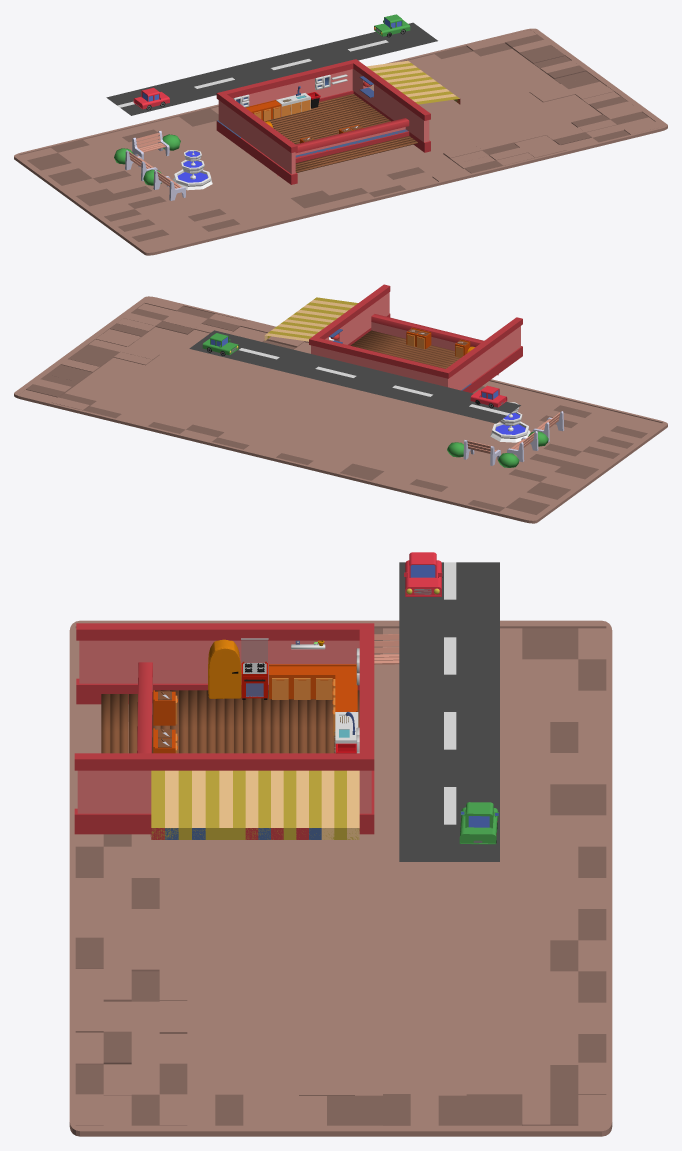
File: KitchenTutorial.fbx
3 renders of one model, top to bottom at view 1: azimuth 30°, elevation 25°; view 2: azimuth 150°, elevation 25°; view 3: azimuth 270°, elevation 25°, orthographic. The views are drawn at different scales.
Visible parts, largest first — view 1: Chao restaurante.001, Paredes, Rua, Chao, Bancos, Paredes.001, Chafariz, Pia, Carro.001, Carro, Bancada.001; view 2: Chao restaurante.001, Paredes, Rua, Chao, Paredes.001, Bancos, Chafariz, Carro, Carro.001, Arbustos.002, Bancada.004; view 3: Chao restaurante.001, Paredes, Rua, Chao, Bancada, Fogao, Carro, Porta Geladeira, Carro.001, Paredes.001.
Boxes of the visible parts, <box> form: Chao restaurante.001: <box>14,28,667,255</box>; Paredes: <box>216,59,460,184</box>; Rua: <box>106,22,437,115</box>; Chao: <box>264,93,417,172</box>; Bancos: <box>125,131,185,200</box>; Paredes.001: <box>277,118,409,176</box>; Chafariz: <box>172,150,212,190</box>; Pia: <box>276,86,310,116</box>; Carro.001: <box>374,14,410,37</box>; Carro: <box>133,87,169,110</box>; Bancada.001: <box>257,100,281,121</box>; Chao restaurante.001: <box>14,296,667,523</box>; Paredes: <box>264,284,522,392</box>; Rua: <box>189,330,520,423</box>; Chao: <box>350,330,460,368</box>; Paredes.001: <box>371,314,498,375</box>; Bancos: <box>463,411,564,465</box>; Chafariz: <box>490,402,530,442</box>; Carro: <box>470,385,507,408</box>; Carro.001: <box>202,333,238,355</box>; Arbustos.002: <box>498,431,548,467</box>; Bancada.004: <box>406,327,431,348</box>; Chao restaurante.001: <box>69,620,612,1136</box>; Paredes: <box>74,623,374,839</box>; Rua: <box>399,562,499,861</box>; Chao: <box>101,690,359,753</box>; Bancada: <box>269,664,356,699</box>; Fogao: <box>241,638,268,699</box>; Carro: <box>404,552,442,596</box>; Porta Geladeira: <box>209,647,241,698</box>; Carro.001: <box>459,802,498,844</box>; Paredes.001: <box>137,662,152,836</box>.
Bounding box in the file's own units: 2620 × 378 × 1177.
